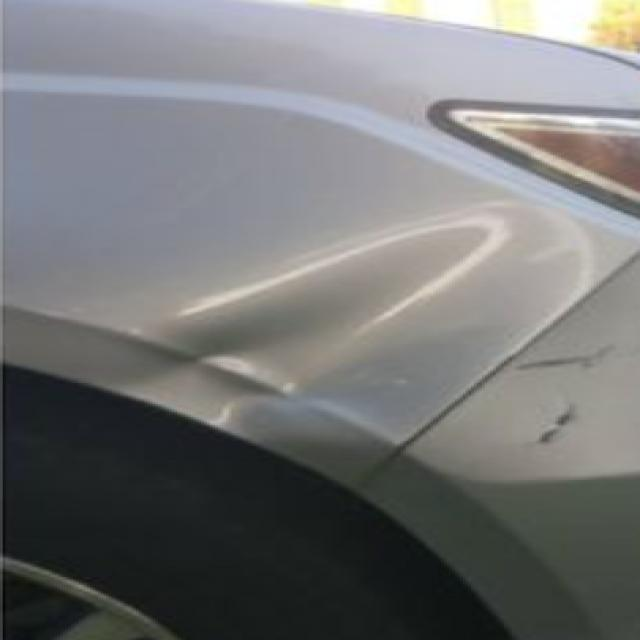dents: (104, 174, 593, 416)
